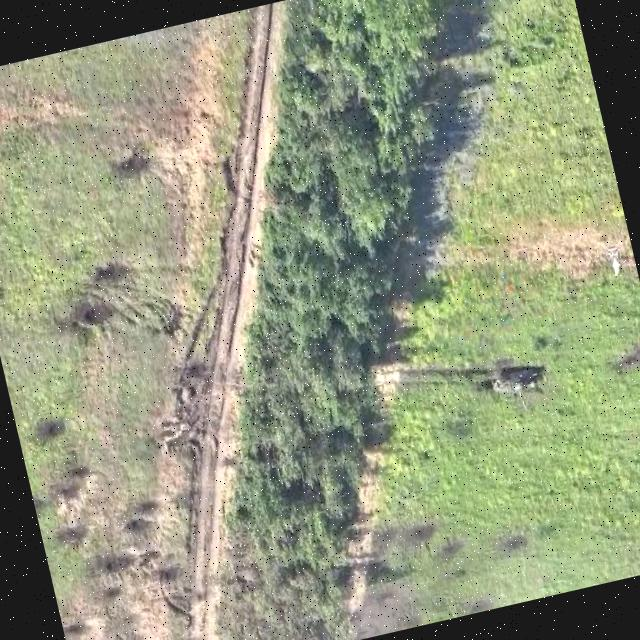MBT: (488, 363, 549, 418)
